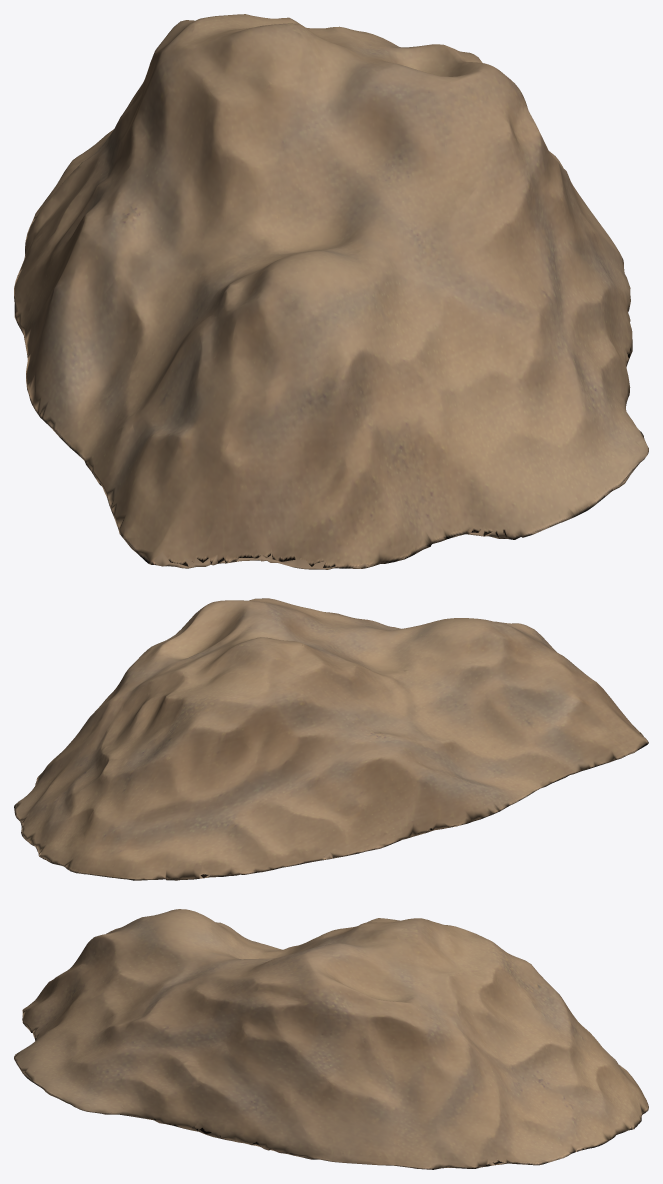
3 renders of one model, top to bottom at view 1: azimuth 30°, elevation 25°; view 2: azimuth 150°, elevation 25°; view 3: azimuth 270°, elevation 25°, orthographic. The views are drawn at different scales.
Parts seen in each view (by area): view 1: geometry_0; view 2: geometry_0; view 3: geometry_0.
Boxes of the visible parts, x1,y1,x2,y2 form: geometry_0: [14, 14, 648, 569]; geometry_0: [14, 598, 648, 880]; geometry_0: [14, 909, 648, 1169].
Size of the model in its own units: 21.48 by 7.63 by 28.
1 material, 1 textured.
